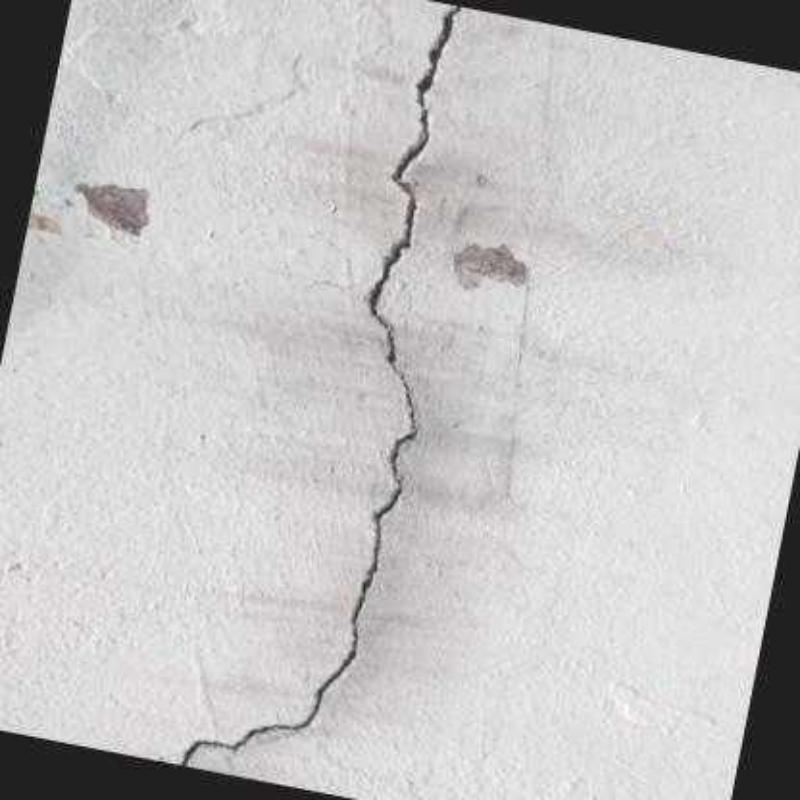pothole: (177, 5, 462, 767)
